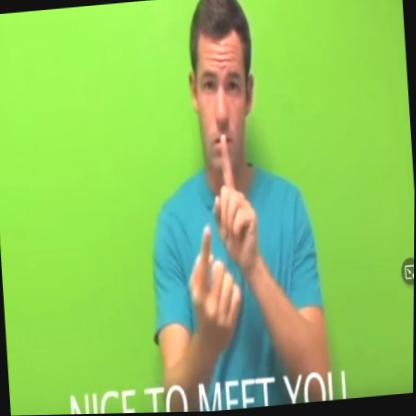NiceToMeetYou: (176, 119, 280, 363)
